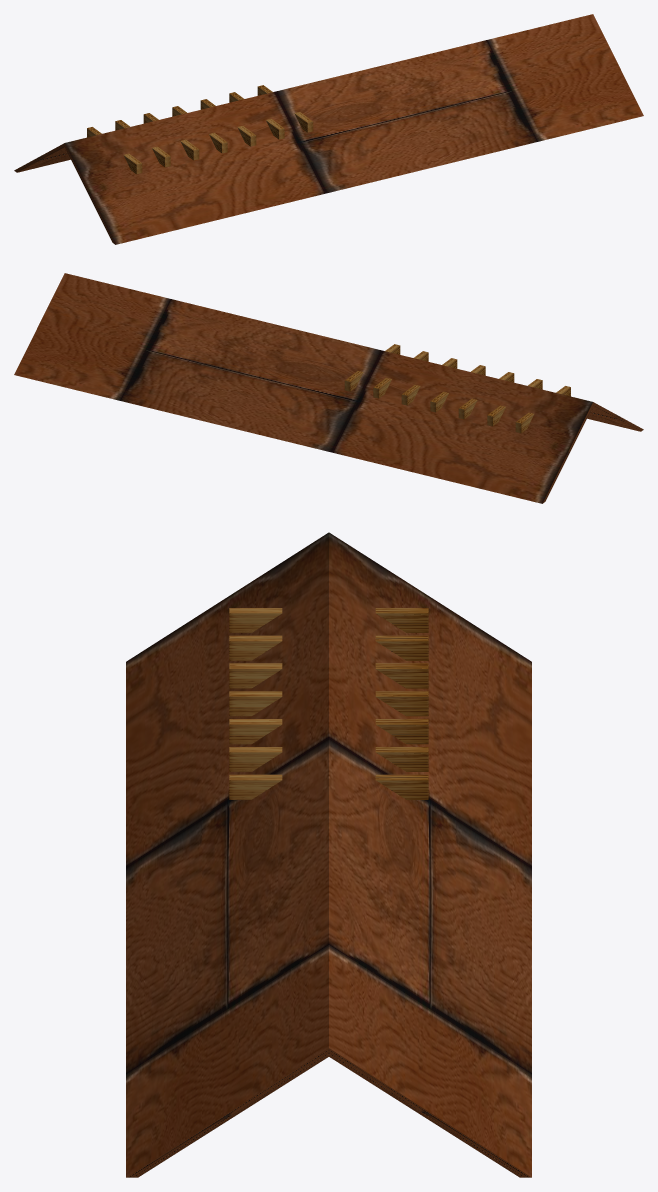
The model's file is roof.glb.
3 views of the same model, one above another, from view 1: azimuth 30°, elevation 25°; view 2: azimuth 150°, elevation 25°; view 3: azimuth 270°, elevation 25° (orthographic). The views are drawn at different scales.
Visible parts, largest first — view 1: roof; view 2: roof; view 3: roof.
Part boxes in pixels (x1,y1,x2,y2): roof: [14, 14, 643, 244]; roof: [14, 273, 643, 503]; roof: [126, 532, 531, 1177].
Bounding box in the file's own units: 183 × 21.46 × 60.96.
Materials: 2 (2 with a texture image).
